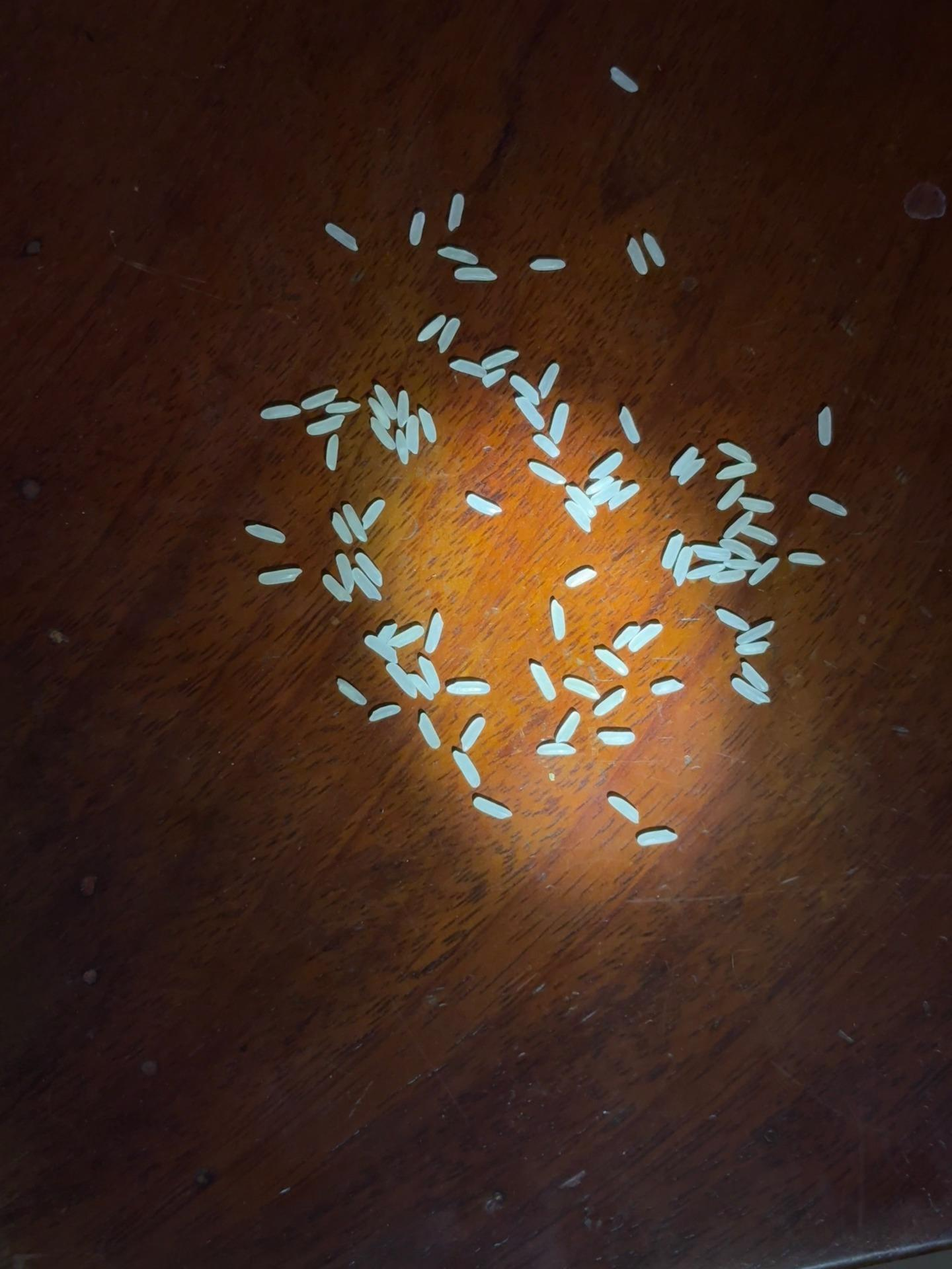Rice-th-y-nh: (386, 663, 417, 698), (453, 750, 481, 788), (732, 678, 769, 704), (515, 397, 544, 430), (325, 223, 358, 252), (629, 624, 663, 652), (342, 504, 367, 542), (352, 569, 381, 601), (567, 485, 596, 517), (531, 664, 556, 701), (355, 553, 383, 586), (510, 375, 540, 405), (749, 557, 780, 586), (717, 480, 746, 511), (723, 511, 754, 540), (736, 622, 775, 645), (672, 547, 695, 586), (590, 453, 623, 480), (365, 636, 398, 663), (595, 649, 629, 675), (594, 689, 626, 716), (809, 494, 848, 516), (473, 797, 512, 819), (741, 662, 769, 692), (670, 447, 698, 477), (374, 385, 398, 420), (608, 796, 639, 823), (418, 713, 441, 749), (418, 657, 441, 693), (461, 717, 485, 751), (626, 238, 648, 275), (720, 538, 757, 560), (322, 575, 351, 603), (337, 679, 367, 706), (609, 484, 640, 510), (643, 232, 666, 267), (555, 712, 580, 744), (610, 66, 638, 94), (417, 315, 446, 342), (661, 535, 684, 569), (529, 463, 566, 484), (307, 415, 344, 436), (370, 418, 395, 449), (566, 501, 591, 532), (564, 678, 599, 700), (425, 613, 444, 653), (438, 246, 478, 265), (336, 554, 355, 594), (619, 407, 640, 443), (302, 389, 338, 410), (591, 481, 621, 506), (389, 626, 423, 648), (246, 524, 285, 543), (550, 404, 569, 443), (408, 673, 434, 701), (678, 459, 706, 485), (438, 319, 460, 352), (718, 442, 752, 463), (716, 609, 748, 631), (450, 359, 487, 378), (717, 462, 756, 480), (368, 398, 390, 429), (743, 525, 777, 545), (539, 364, 559, 398), (259, 569, 301, 585), (362, 500, 385, 529), (467, 495, 500, 515), (614, 625, 640, 650), (482, 350, 518, 368), (688, 562, 723, 580), (447, 194, 464, 231), (693, 545, 732, 561), (418, 408, 436, 442), (817, 407, 833, 445), (447, 681, 490, 695), (332, 514, 352, 544), (455, 267, 497, 281), (638, 830, 677, 845), (534, 434, 559, 457), (537, 742, 575, 757), (739, 497, 774, 513), (551, 600, 565, 640), (261, 405, 300, 419), (711, 568, 745, 584), (566, 569, 596, 587), (405, 416, 419, 454), (409, 212, 425, 245), (395, 391, 410, 426), (369, 705, 401, 721), (586, 477, 614, 495), (395, 430, 409, 464), (598, 732, 634, 745), (725, 558, 760, 571), (326, 435, 339, 470), (652, 680, 684, 694), (788, 553, 825, 565), (736, 642, 770, 655), (530, 259, 565, 271), (483, 369, 506, 387), (326, 402, 360, 414), (377, 625, 396, 643)
